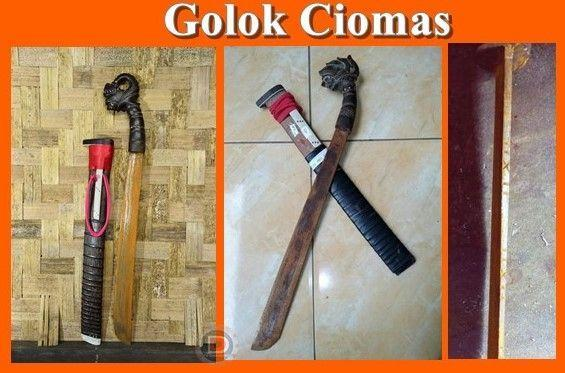facao: (246, 57, 364, 348), (447, 42, 556, 356), (82, 67, 166, 345)
